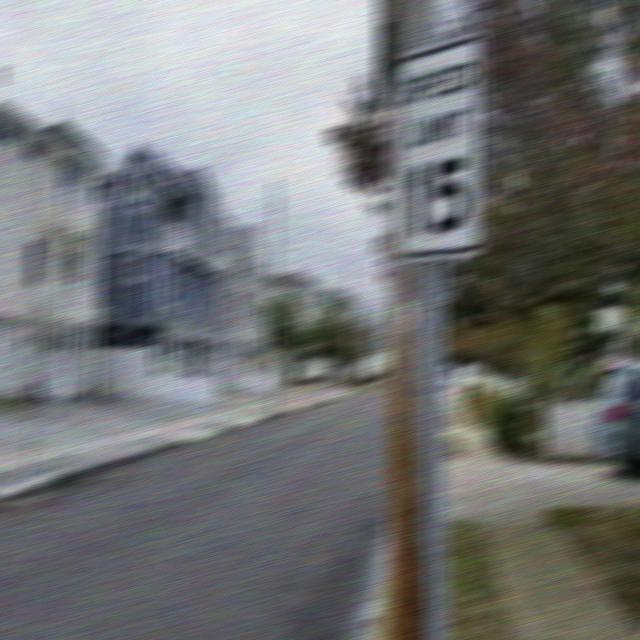speedLimit15: (398, 51, 482, 246)
